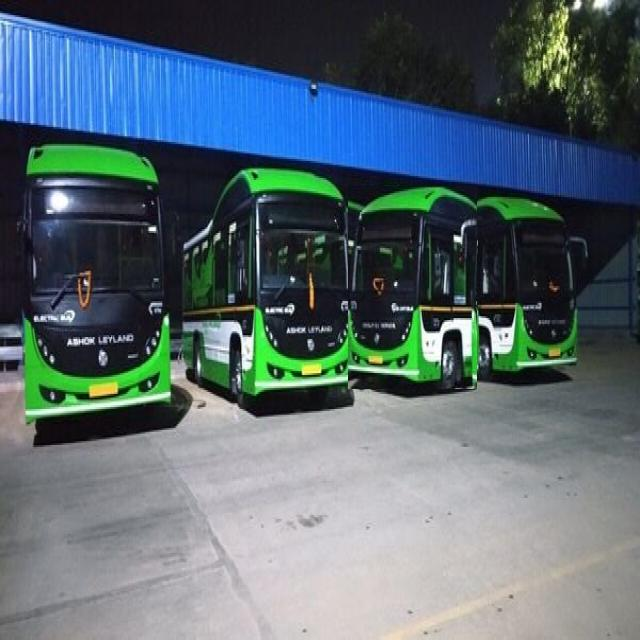bus: (22, 144, 170, 434), (182, 169, 352, 403), (349, 187, 477, 389), (468, 197, 587, 377)
